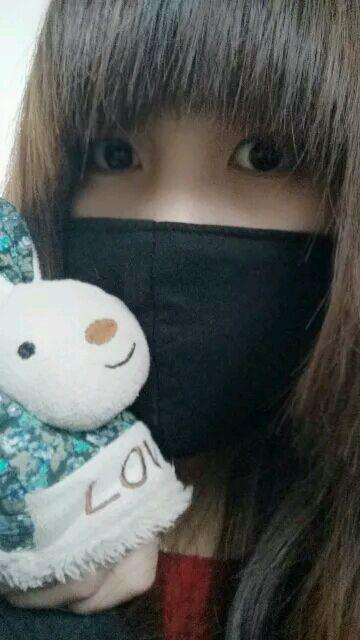WRONG: (37, 100, 321, 413)
